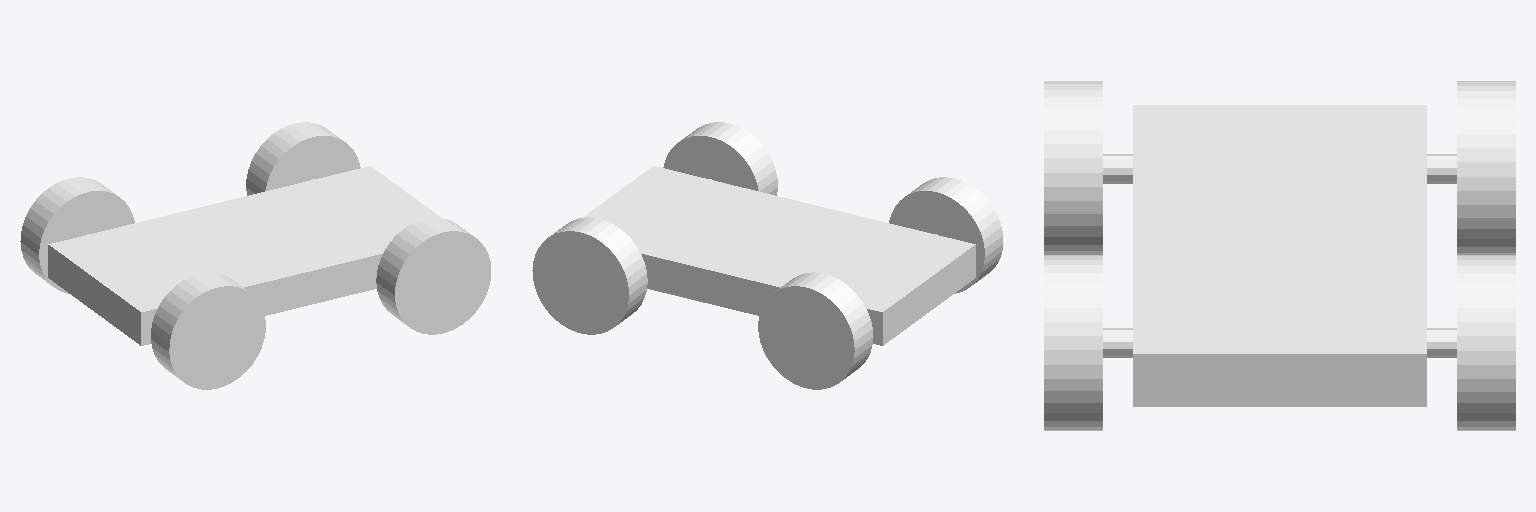
robot.urdf — sw2urdfTest260606Car:
<?xml version="1.0" encoding="utf-8"?>
<!-- This URDF was automatically created by SolidWorks to URDF Exporter! Originally created by Stephen Brawner (brawner@gmail.com) 
     Commit Version: 1.6.0-4-g7f85cfe  Build Version: 1.6.7995.38578
     For more information, please see http://wiki.ros.org/sw_urdf_exporter -->
<robot
  name="sw2urdfTest260606Car">
  <link
    name="base_link">
    <inertial>
      <origin
        xyz="-1.03650438129083E-17 -1.61176583042564E-21 -3.07775466843409E-19"
        rpy="0 0 0" />
      <mass
        value="0.0503926990816987" />
      <inertia
        ixx="1.113174372927E-05"
        ixy="-5.2773480857275E-22"
        ixz="-1.05982515983357E-21"
        iyy="5.28628001043509E-05"
        iyz="-3.30920467085792E-40"
        izz="4.25656168930446E-05" />
    </inertial>
    <visual>
      <origin
        xyz="0 0 0"
        rpy="0 0 0" />
      <geometry>
        <mesh
          filename="package://sw2urdfTest260606Car/meshes/base_link.STL" />
      </geometry>
      <material
        name="">
        <color
          rgba="1 1 1 1" />
      </material>
    </visual>
    <collision>
      <origin
        xyz="0 0 0"
        rpy="0 0 0" />
      <geometry>
        <mesh
          filename="package://sw2urdfTest260606Car/meshes/base_link.STL" />
      </geometry>
    </collision>
  </link>
  <link
    name="BRWHEEL">
    <inertial>
      <origin
        xyz="0.005 0 0"
        rpy="0 0 0" />
      <mass
        value="0.0070686" />
      <inertia
        ixx="7.9522E-07"
        ixy="-4.8981E-24"
        ixz="3.064E-23"
        iyy="4.5651E-07"
        iyz="2.647E-23"
        izz="4.5651E-07" />
    </inertial>
    <visual>
      <origin
        xyz="0 0 0"
        rpy="0 0 0" />
      <geometry>
        <mesh
          filename="package://sw2urdfTest260606Car/meshes/BRWHEEL.STL" />
      </geometry>
      <material
        name="">
        <color
          rgba="1 1 1 1" />
      </material>
    </visual>
    <collision>
      <origin
        xyz="0 0 0"
        rpy="0 0 0" />
      <geometry>
        <mesh
          filename="package://sw2urdfTest260606Car/meshes/BRWHEEL.STL" />
      </geometry>
    </collision>
  </link>
  <joint
    name="BRJ"
    type="revolute">
    <origin
      xyz="-0.035 -0.03 0"
      rpy="-1.9618 0 -1.5708" />
    <parent
      link="base_link" />
    <child
      link="BRWHEEL" />
    <axis
      xyz="1 0 0" />
    <limit
      lower="0"
      upper="0"
      effort="0"
      velocity="0" />
  </joint>
  <link
    name="BLWHEEL">
    <inertial>
      <origin
        xyz="0.005 1.73472347597681E-18 6.93889390390723E-18"
        rpy="0 0 0" />
      <mass
        value="0.00706858347057703" />
      <inertia
        ixx="7.95215640439917E-07"
        ixy="-1.0910133145124E-24"
        ixz="1.61539049475061E-25"
        iyy="4.56512682474767E-07"
        iyz="-1.32348898008484E-23"
        izz="4.56512682474767E-07" />
    </inertial>
    <visual>
      <origin
        xyz="0 0 0"
        rpy="0 0 0" />
      <geometry>
        <mesh
          filename="package://sw2urdfTest260606Car/meshes/BLWHEEL.STL" />
      </geometry>
      <material
        name="">
        <color
          rgba="1 1 1 1" />
      </material>
    </visual>
    <collision>
      <origin
        xyz="0 0 0"
        rpy="0 0 0" />
      <geometry>
        <mesh
          filename="package://sw2urdfTest260606Car/meshes/BLWHEEL.STL" />
      </geometry>
    </collision>
  </link>
  <joint
    name="BLJ"
    type="revolute">
    <origin
      xyz="-0.035 0.03 0"
      rpy="1.7178 0 1.5708" />
    <parent
      link="base_link" />
    <child
      link="BLWHEEL" />
    <axis
      xyz="1 0 0" />
    <limit
      lower="0"
      upper="0"
      effort="0"
      velocity="0" />
  </joint>
  <link
    name="FRWHEEL">
    <inertial>
      <origin
        xyz="0.005 0 0"
        rpy="0 0 0" />
      <mass
        value="0.00706858347057703" />
      <inertia
        ixx="7.95215640439916E-07"
        ixy="1.29129150775348E-23"
        ixz="1.83956129535077E-23"
        iyy="4.56512682474767E-07"
        iyz="3.97046694025453E-23"
        izz="4.56512682474767E-07" />
    </inertial>
    <visual>
      <origin
        xyz="0 0 0"
        rpy="0 0 0" />
      <geometry>
        <mesh
          filename="package://sw2urdfTest260606Car/meshes/FRWHEEL.STL" />
      </geometry>
      <material
        name="">
        <color
          rgba="1 1 1 1" />
      </material>
    </visual>
    <collision>
      <origin
        xyz="0 0 0"
        rpy="0 0 0" />
      <geometry>
        <mesh
          filename="package://sw2urdfTest260606Car/meshes/FRWHEEL.STL" />
      </geometry>
    </collision>
  </link>
  <joint
    name="FRJ"
    type="revolute">
    <origin
      xyz="0.035 -0.03 0"
      rpy="-2.0886 0 -1.5708" />
    <parent
      link="base_link" />
    <child
      link="FRWHEEL" />
    <axis
      xyz="1 0 0" />
    <limit
      lower="0"
      upper="0"
      effort="0"
      velocity="0" />
  </joint>
  <link
    name="FLWHEEL">
    <inertial>
      <origin
        xyz="-0.005 0 0"
        rpy="0 0 0" />
      <mass
        value="0.00706858347057703" />
      <inertia
        ixx="7.95215640439916E-07"
        ixy="-4.61931754064618E-24"
        ixz="4.31118156006129E-23"
        iyy="4.56512682474767E-07"
        iyz="-3.15779106970461E-40"
        izz="4.56512682474767E-07" />
    </inertial>
    <visual>
      <origin
        xyz="0 0 0"
        rpy="0 0 0" />
      <geometry>
        <mesh
          filename="package://sw2urdfTest260606Car/meshes/FLWHEEL.STL" />
      </geometry>
      <material
        name="">
        <color
          rgba="1 1 1 1" />
      </material>
    </visual>
    <collision>
      <origin
        xyz="0 0 0"
        rpy="0 0 0" />
      <geometry>
        <mesh
          filename="package://sw2urdfTest260606Car/meshes/FLWHEEL.STL" />
      </geometry>
    </collision>
  </link>
  <joint
    name="FLJ"
    type="revolute">
    <origin
      xyz="0.035 0.03 0"
      rpy="-2.0859 0 -1.5708" />
    <parent
      link="base_link" />
    <child
      link="FLWHEEL" />
    <axis
      xyz="1 0 0" />
    <limit
      lower="0"
      upper="0"
      effort="0"
      velocity="0" />
  </joint>
</robot>

--- What the picture shows (computed from the rendered views, not written in the file) ---
3 views of the same robot in one strip: view 1: azimuth 30°, elevation 25°; view 2: azimuth 150°, elevation 25°; view 3: azimuth 270°, elevation 25° (orthographic).
Robot: sw2urdfTest260606Car — 5 links, 4 joints (4 revolute); root link base_link; default pose: all joints at 0.
Visible links, largest first — view 1: base_link, BRWHEEL, FRWHEEL, BLWHEEL, FLWHEEL; view 2: base_link, FLWHEEL, BLWHEEL, BRWHEEL, FRWHEEL; view 3: base_link, FRWHEEL, FLWHEEL, BRWHEEL, BLWHEEL.
Link boxes in pixels (<box>): base_link: <box>48,166,440,345</box>; BRWHEEL: <box>151,273,265,389</box>; FRWHEEL: <box>376,217,490,334</box>; BLWHEEL: <box>20,177,134,293</box>; FLWHEEL: <box>246,122,360,195</box>; base_link: <box>583,166,975,345</box>; FLWHEEL: <box>532,217,647,334</box>; BLWHEEL: <box>758,272,872,389</box>; BRWHEEL: <box>889,177,1003,293</box>; FRWHEEL: <box>663,122,777,195</box>; base_link: <box>1103,105,1456,406</box>; FRWHEEL: <box>1044,255,1102,430</box>; FLWHEEL: <box>1457,255,1515,430</box>; BRWHEEL: <box>1044,81,1102,254</box>; BLWHEEL: <box>1457,81,1515,254</box>.
Bounding box of the posed robot: 0.1 × 0.08 × 0.03 m (x, y, z).
Meshes: 5 distinct files referenced, 5 mesh visuals loaded (5 binary STL).
